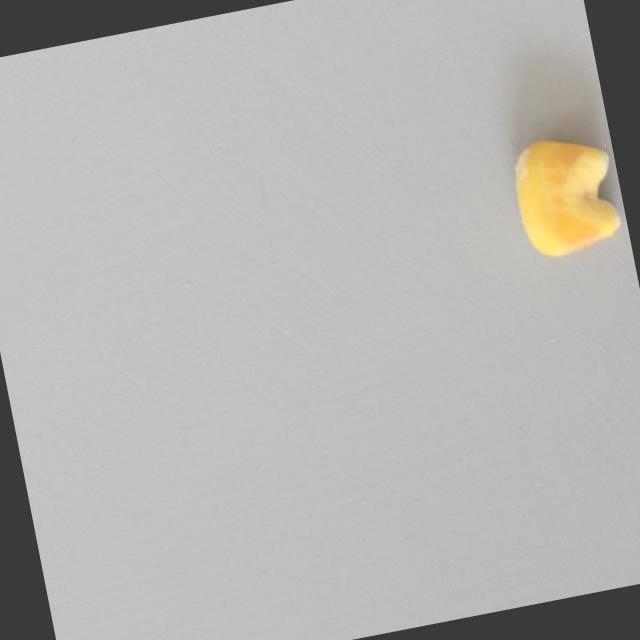dañado: (498, 120, 630, 265)
